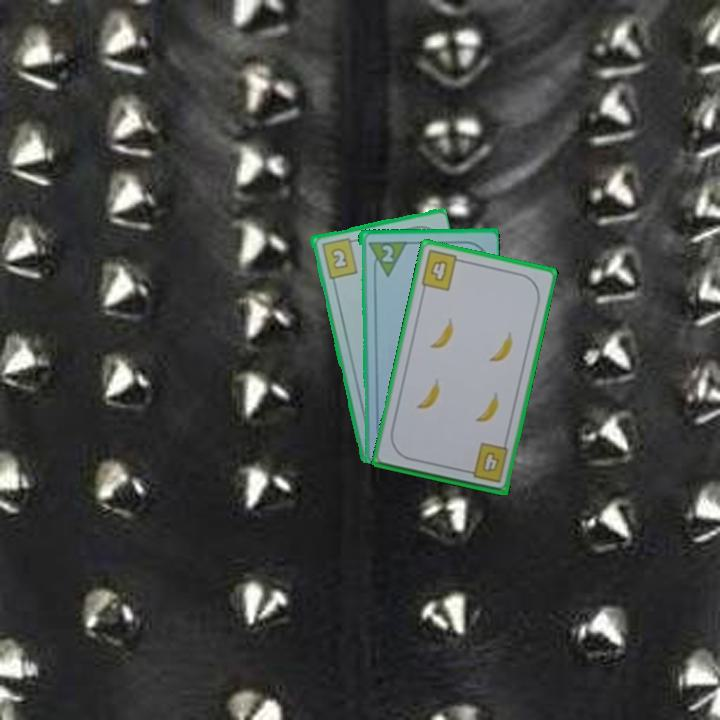2b: (318, 234, 360, 281)
2p: (364, 237, 407, 278)
4b: (417, 246, 467, 294), (462, 439, 511, 485)
